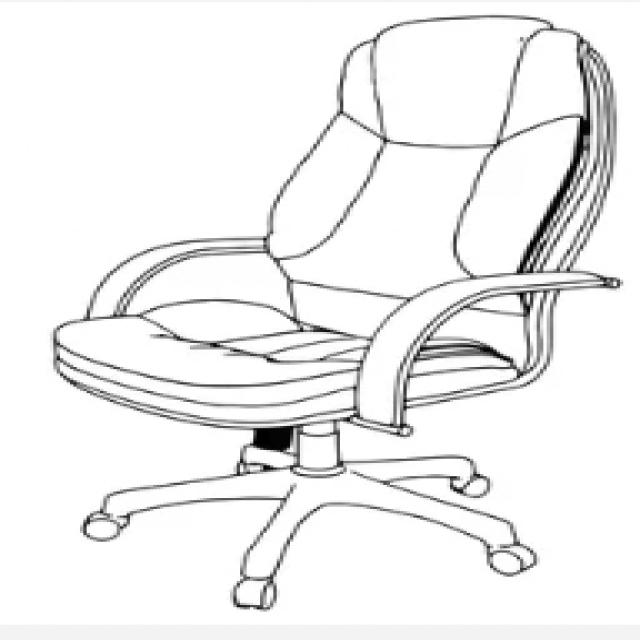5_Star_Base: (63, 439, 557, 615)
Armrest: (341, 267, 632, 443), (83, 233, 271, 323)
Backrest: (259, 14, 622, 375)
Seat: (50, 299, 533, 431)
